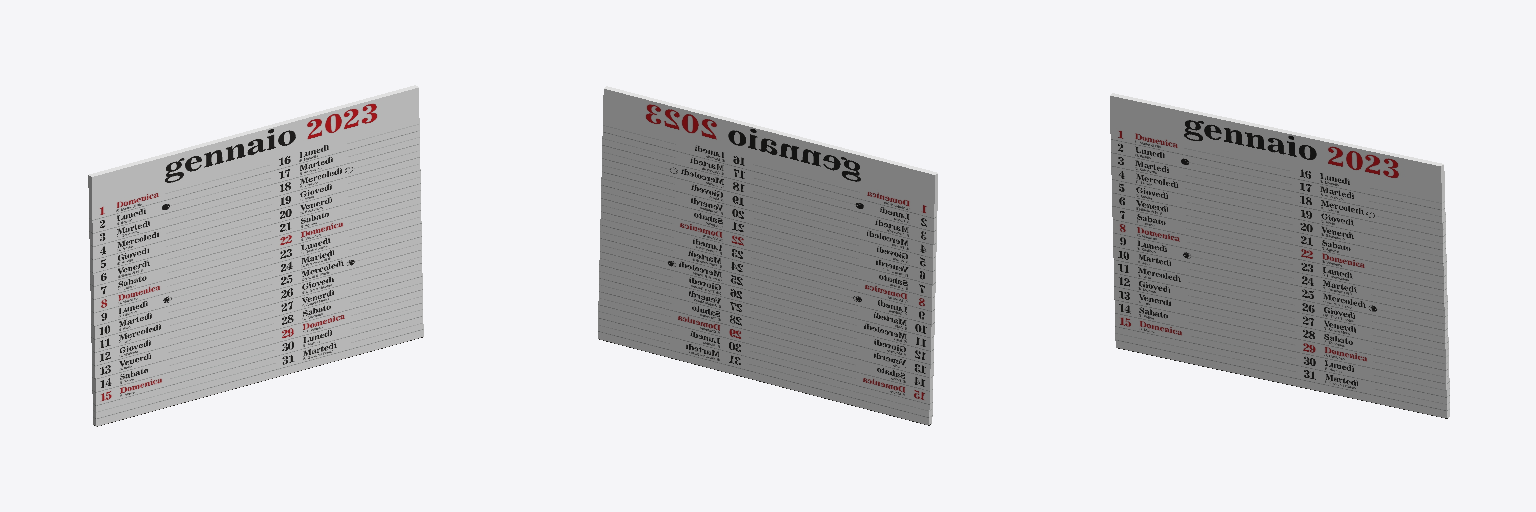
3 renders of one model, left to right at view 1: azimuth 30°, elevation 25°; view 2: azimuth 150°, elevation 25°; view 3: azimuth 330°, elevation 25°, orthographic.
Parts seen in each view (by area): view 1: calendario_Plane.001; view 2: calendario_Plane.001; view 3: calendario_Plane.001.
Part boxes in pixels (bbox=[...]): calendario_Plane.001: bbox=[88, 85, 423, 426]; calendario_Plane.001: bbox=[598, 86, 937, 425]; calendario_Plane.001: bbox=[1110, 93, 1449, 418].
Size of the model in its own units: 2.11 by 1.56 by 0.066.
1 materials, 1 textured.